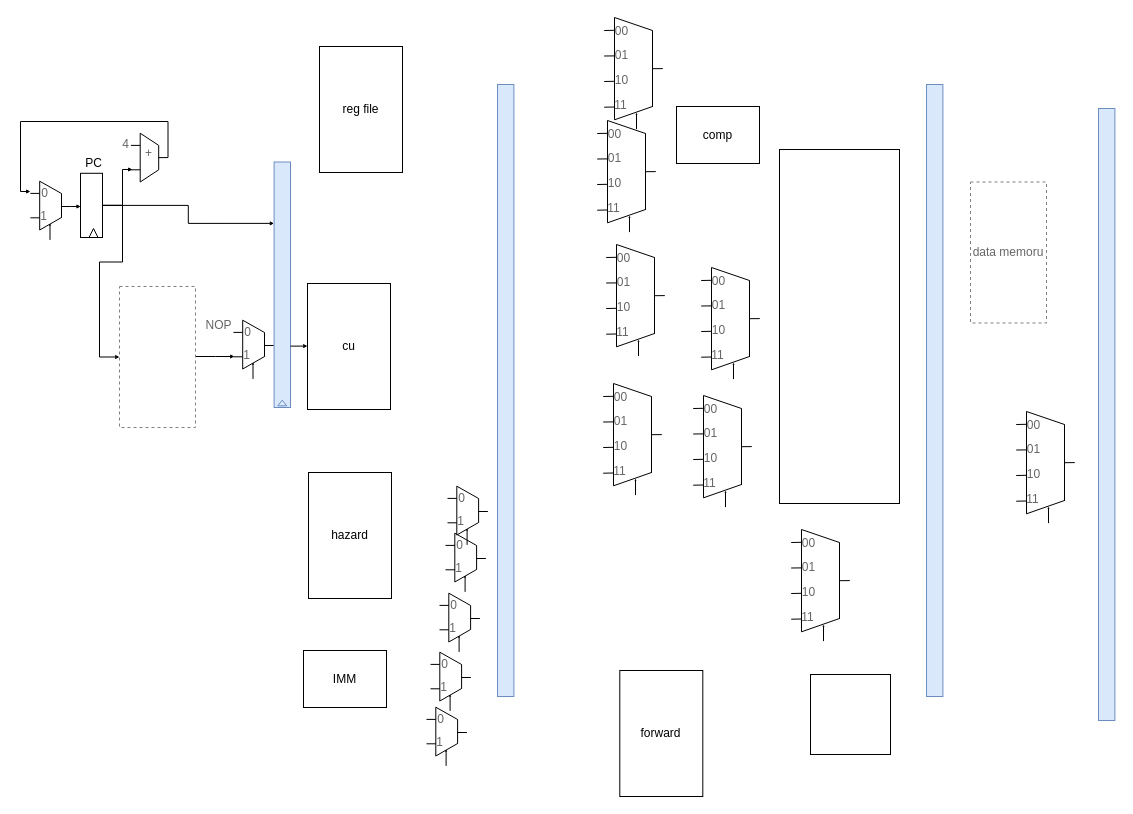
Image size: 1133x814. Some labels were removed from this diagram. Each missing label, with the centre of its shape:
alu: the point at 839,326
ctrl: the point at 850,714
Instruction memory: the point at 157,357
